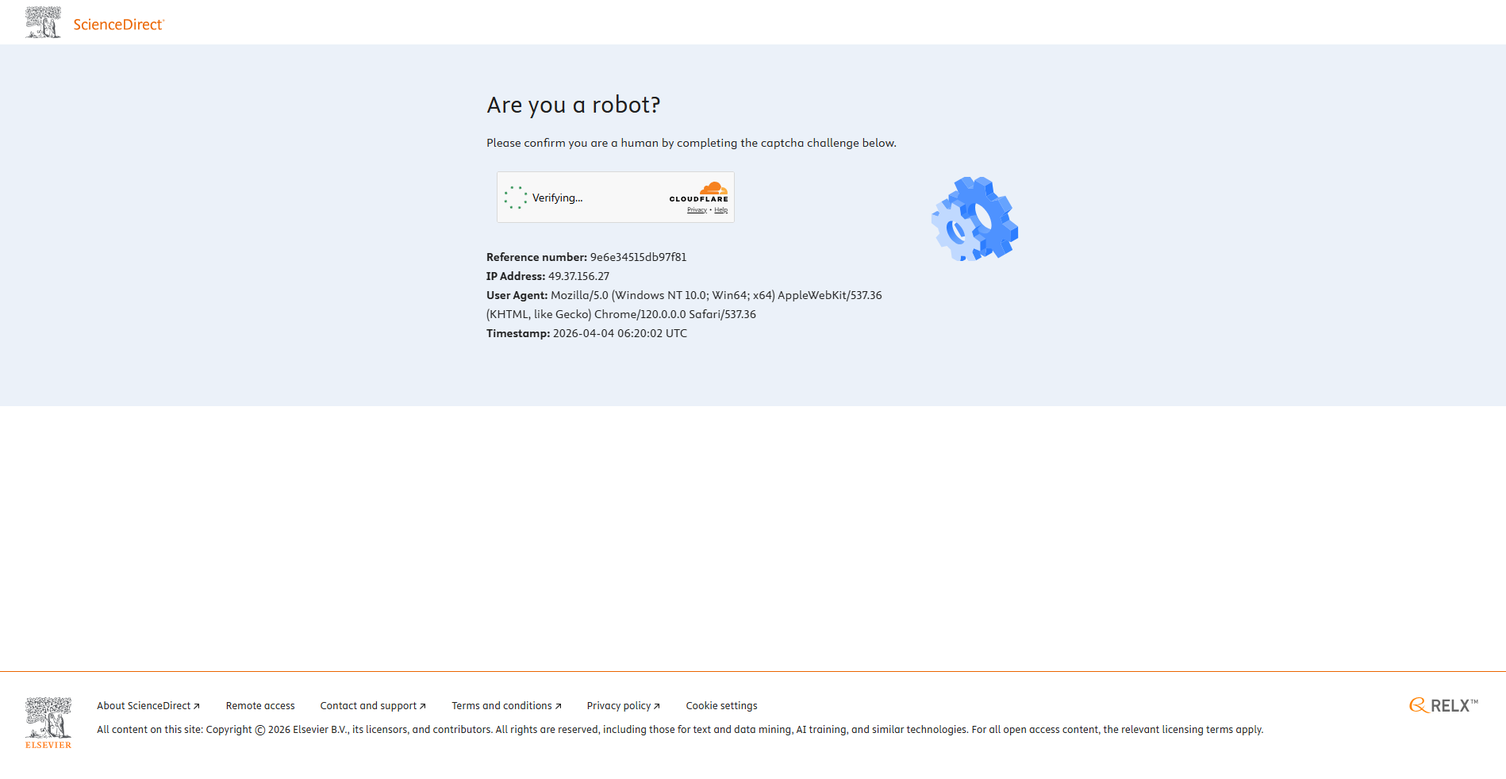general_button: (686, 697, 757, 715)
general_image: (25, 697, 71, 748), (1407, 697, 1481, 713), (25, 6, 61, 38)
general_link: (25, 6, 172, 38), (25, 697, 71, 748), (452, 697, 561, 715), (320, 697, 426, 715), (97, 697, 200, 715), (587, 697, 661, 715), (226, 697, 295, 715), (1407, 697, 1481, 713)
